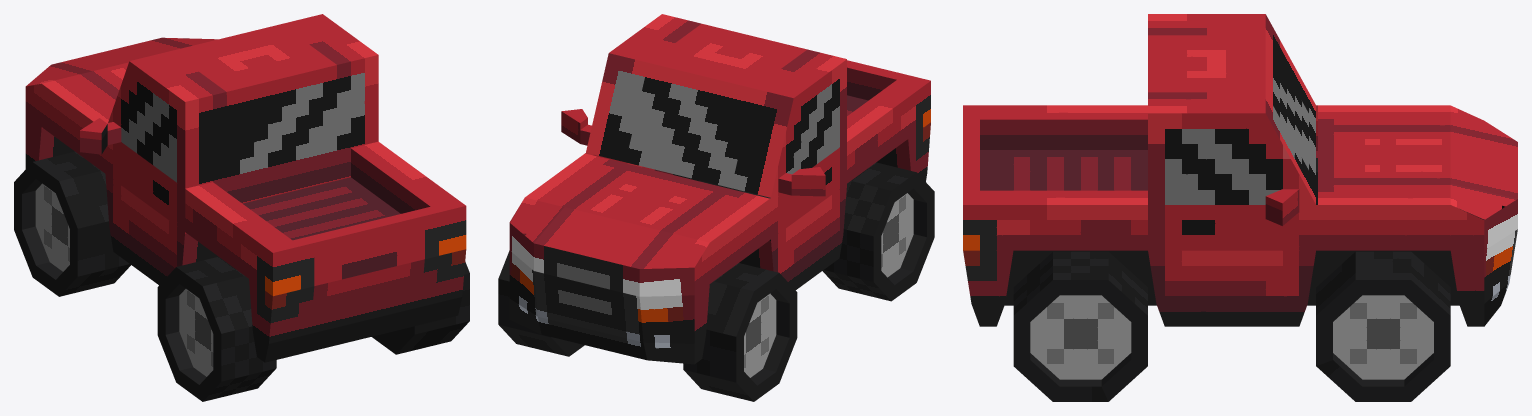
The model's file is truck.glb.
The picture shows the model from 3 angles, left to right: view 1: azimuth 30°, elevation 25°; view 2: azimuth 150°, elevation 25°; view 3: azimuth 270°, elevation 25°; orthographic projection. The views are drawn at different scales.
Parts seen in each view (by area): view 1: cube_12, cylinder_6, cylinder_0, cylinder_4, cube_10; view 2: cube_12, cylinder_0, cylinder_6, cylinder_2, cube_10, cube_9; view 3: cube_12, cylinder_2, cylinder_4, cube_9.
Boxes of the visible parts, x1,y1,x2,y2 form: cube_12: [25, 14, 466, 362]; cylinder_6: [157, 256, 276, 401]; cylinder_0: [14, 151, 130, 296]; cylinder_4: [371, 262, 469, 354]; cube_10: [80, 118, 121, 154]; cube_12: [509, 14, 930, 364]; cylinder_0: [683, 263, 797, 401]; cylinder_6: [822, 162, 934, 301]; cylinder_2: [498, 250, 584, 356]; cube_10: [778, 167, 825, 196]; cube_9: [561, 109, 591, 145]; cube_12: [963, 14, 1517, 326]; cylinder_2: [1316, 251, 1450, 401]; cylinder_4: [1013, 251, 1147, 401]; cube_9: [1265, 189, 1299, 225].
Size of the model in its own units: 1.25 by 1.12 by 2.06.
3 materials, 3 textured.
